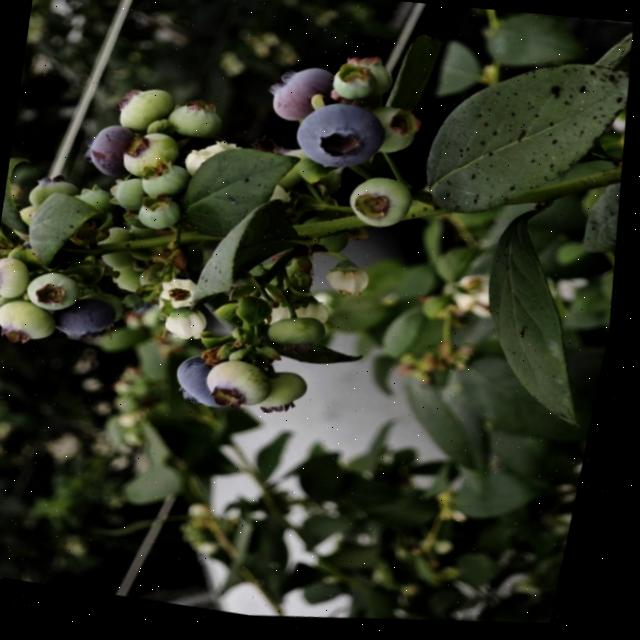RipeBlueBerry: (289, 96, 398, 184), (55, 295, 130, 357), (173, 354, 237, 420)
Semi-RipeBlueBerry: (262, 62, 344, 133), (80, 121, 141, 189)
UnripeBlueBerry: (344, 172, 426, 240), (206, 357, 286, 424), (113, 87, 183, 144), (0, 302, 67, 358), (0, 258, 41, 310)
